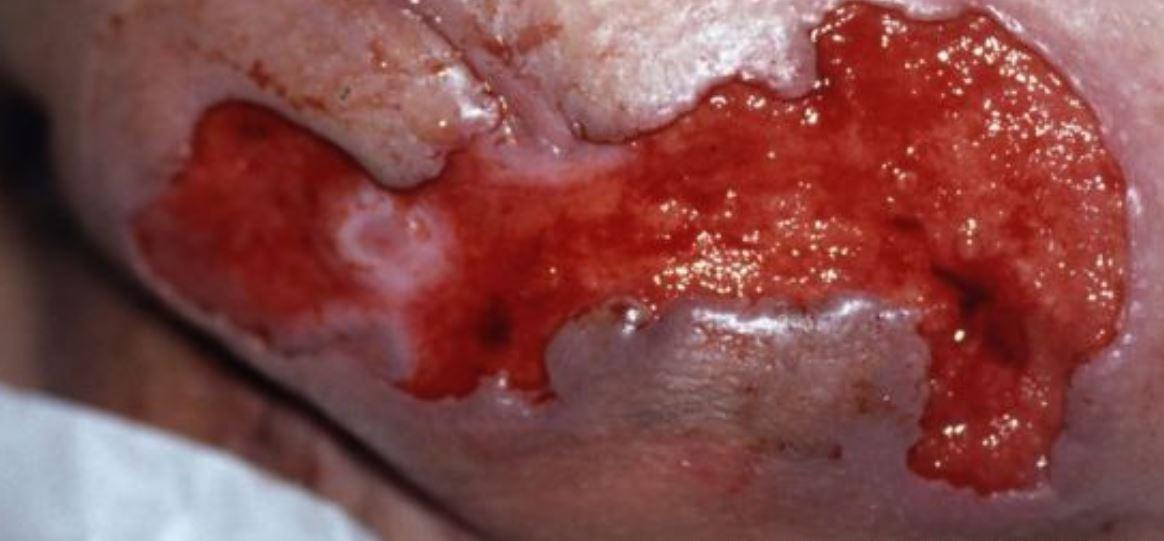Stage3: (89, 22, 1132, 502)
